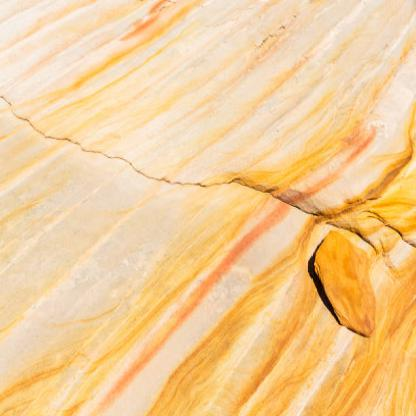Sedimentary_Sandstone: (310, 222, 391, 367)
